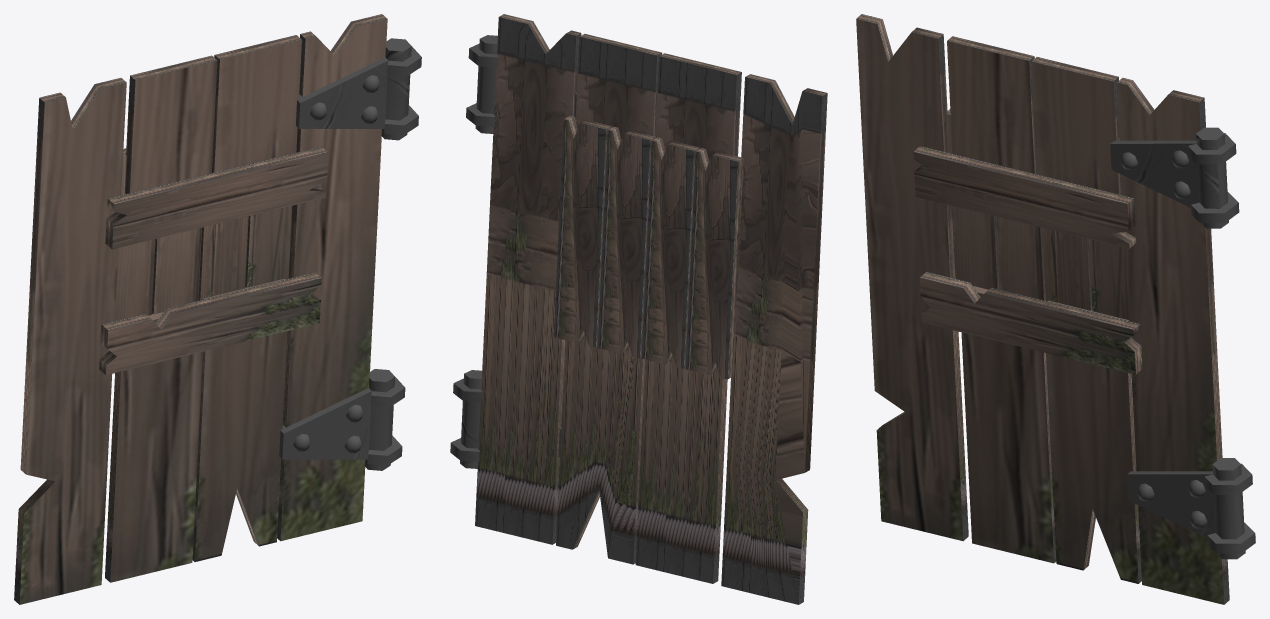
The model's file is SM_Door.fbx.
The picture shows the model from 3 angles, left to right: view 1: azimuth 30°, elevation 25°; view 2: azimuth 150°, elevation 25°; view 3: azimuth 330°, elevation 25°; orthographic projection. The views are drawn at different scales.
Parts seen in each view (by area): view 1: Box034; view 2: Box034; view 3: Box034.
Boxes of the visible parts, x1,y1,x2,y2 form: Box034: [14, 14, 421, 604]; Box034: [450, 14, 827, 604]; Box034: [856, 14, 1255, 604].
Size of the model in its own units: 112 by 150 by 23.39.
